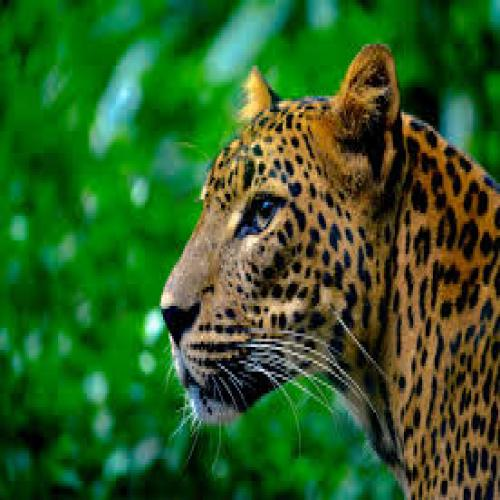jaguar_not-endangered: (159, 41, 495, 500)
